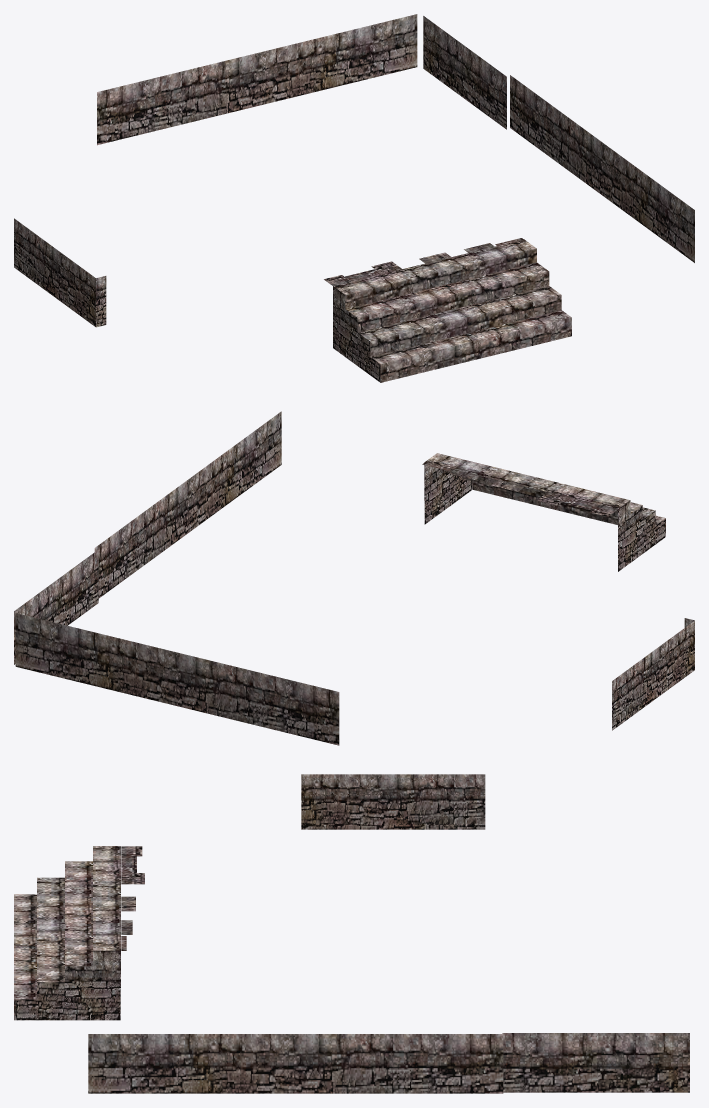
The model's file is celt_temple_wall.dae.
3 renders of one model, top to bottom at view 1: azimuth 30°, elevation 25°; view 2: azimuth 150°, elevation 25°; view 3: azimuth 270°, elevation 25°, orthographic. The views are drawn at different scales.
Visible parts, largest first — view 1: default015; view 2: default015; view 3: default015.
Boxes of the visible parts, x1,y1,x2,y2 form: default015: [14, 14, 694, 382]; default015: [14, 411, 694, 745]; default015: [14, 774, 689, 1093].
Size of the model in its own units: 19.86 by 2.4 by 20.71.
